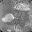people: (2, 13, 14, 23)
